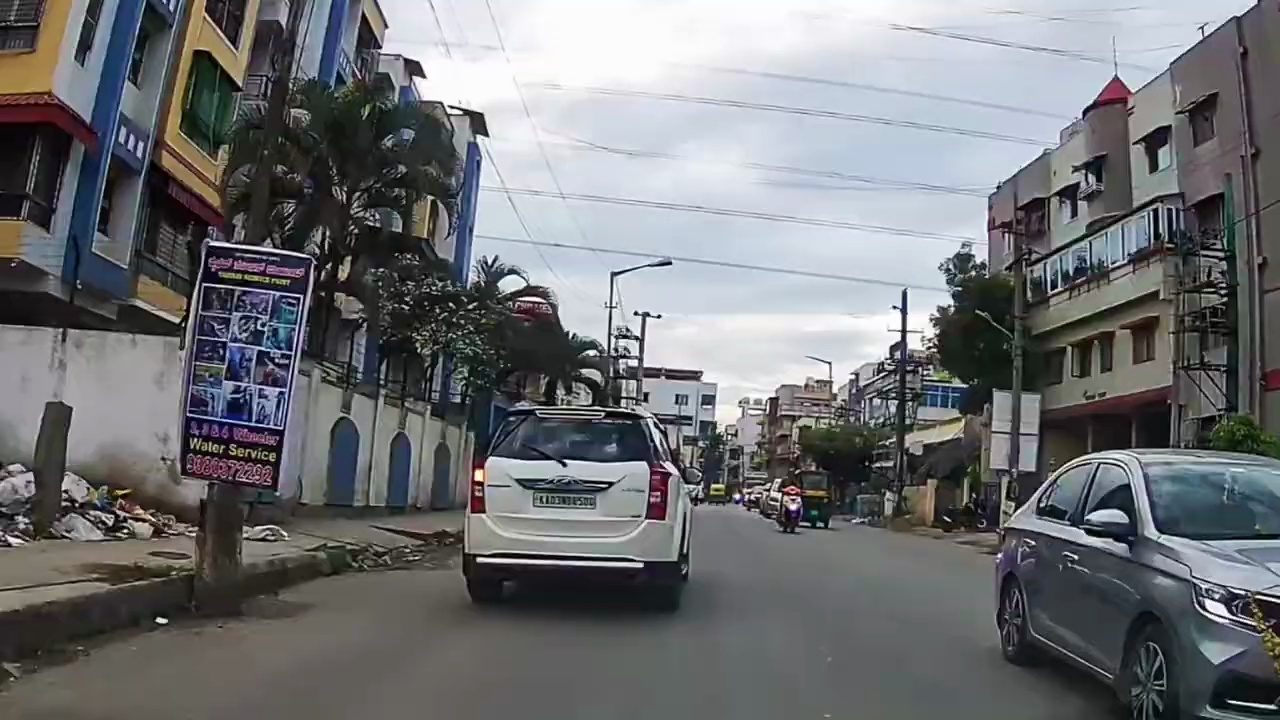garbage: (64, 478, 136, 541), (250, 518, 287, 541)
